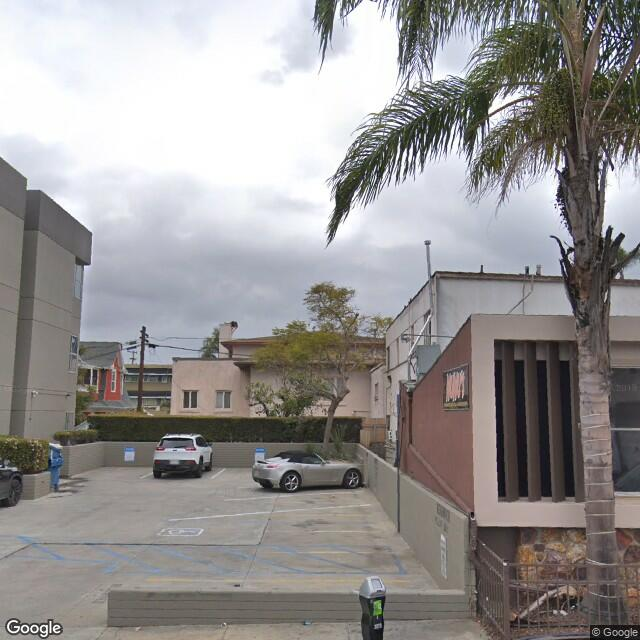window: (610, 360, 640, 498), (177, 388, 201, 409)
